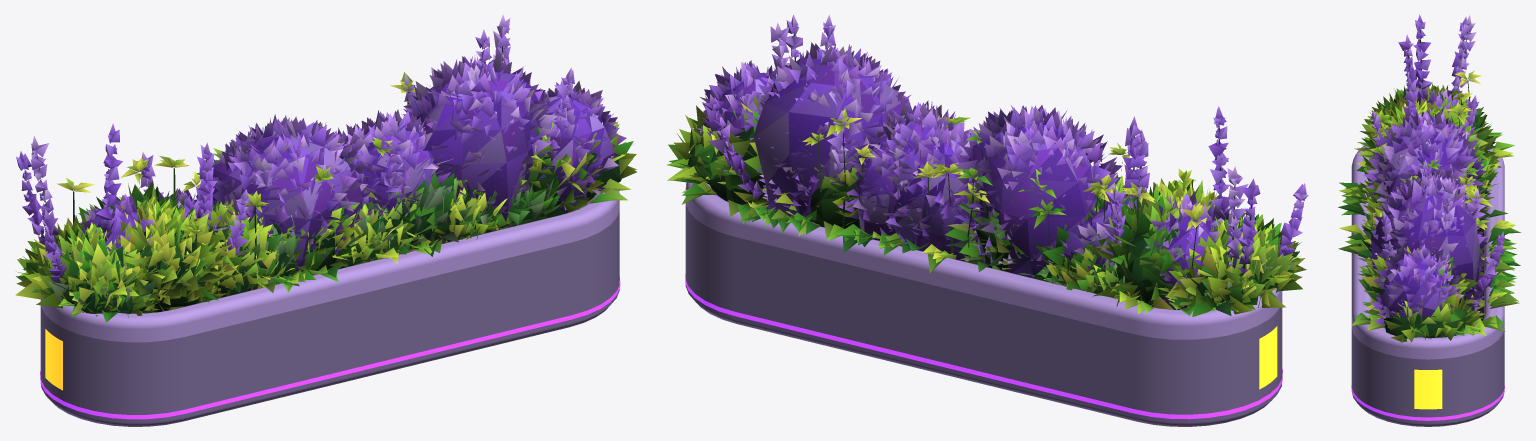
The model's file is planters_v2.glb.
3 views of the same model, side by side, from view 1: azimuth 30°, elevation 25°; view 2: azimuth 150°, elevation 25°; view 3: azimuth 270°, elevation 25° (orthographic). The views are drawn at different scales.
Parts seen in each view (by area): view 1: planter_a_Body, planter_a_Flower, planter_c_Flower, planter_b_Leaf, planter_a_Cap, planter_c_Leaf, planter_a_Leaf, planter_b_Flower, planter_a_Neon, planter_a_Amber; view 2: planter_a_Body, planter_a_Flower, planter_c_Flower, planter_c_Leaf, planter_a_Cap, planter_b_Leaf, planter_a_Leaf, planter_b_Flower, planter_a_Neon, planter_a_Amber; view 3: planter_c_Flower, planter_a_Flower, planter_a_Body, planter_a_Leaf, planter_a_Cap, planter_b_Leaf, planter_c_Leaf, planter_a_Amber, planter_b_Flower, planter_a_Neon.
Boxes of the visible parts, x1=… form: planter_a_Body: x1=40, y1=211, x2=619, y2=426; planter_a_Flower: x1=16, y1=114, x2=410, y2=283; planter_c_Flower: x1=402, y1=14, x2=626, y2=227; planter_b_Leaf: x1=16, y1=137, x2=510, y2=322; planter_a_Cap: x1=40, y1=191, x2=619, y2=342; planter_c_Leaf: x1=15, y1=40, x2=630, y2=316; planter_a_Leaf: x1=24, y1=72, x2=636, y2=317; planter_b_Flower: x1=343, y1=109, x2=615, y2=219; planter_a_Neon: x1=40, y1=277, x2=620, y2=419; planter_a_Amber: x1=45, y1=329, x2=62, y2=390; planter_a_Body: x1=685, y1=204, x2=1282, y2=426; planter_a_Flower: x1=885, y1=105, x2=1308, y2=309; planter_c_Flower: x1=692, y1=14, x2=920, y2=246; planter_c_Leaf: x1=714, y1=26, x2=1304, y2=315; planter_a_Cap: x1=685, y1=182, x2=1282, y2=339; planter_b_Leaf: x1=667, y1=117, x2=1306, y2=316; planter_a_Leaf: x1=667, y1=94, x2=1299, y2=311; planter_b_Flower: x1=700, y1=99, x2=970, y2=245; planter_a_Neon: x1=685, y1=274, x2=1282, y2=419; planter_a_Amber: x1=1259, y1=326, x2=1277, y2=389; planter_c_Flower: x1=1369, y1=160, x2=1504, y2=332; planter_a_Flower: x1=1363, y1=14, x2=1490, y2=227; planter_a_Body: x1=1351, y1=328, x2=1504, y2=426; planter_a_Leaf: x1=1339, y1=24, x2=1519, y2=342; planter_a_Cap: x1=1351, y1=145, x2=1504, y2=359; planter_b_Leaf: x1=1338, y1=70, x2=1520, y2=336; planter_c_Leaf: x1=1339, y1=83, x2=1520, y2=330; planter_a_Amber: x1=1414, y1=369, x2=1442, y2=409; planter_b_Flower: x1=1375, y1=172, x2=1486, y2=317; planter_a_Neon: x1=1351, y1=234, x2=1504, y2=420.
Bounding box in the file's own units: 4.34 × 1.91 × 1.44.
